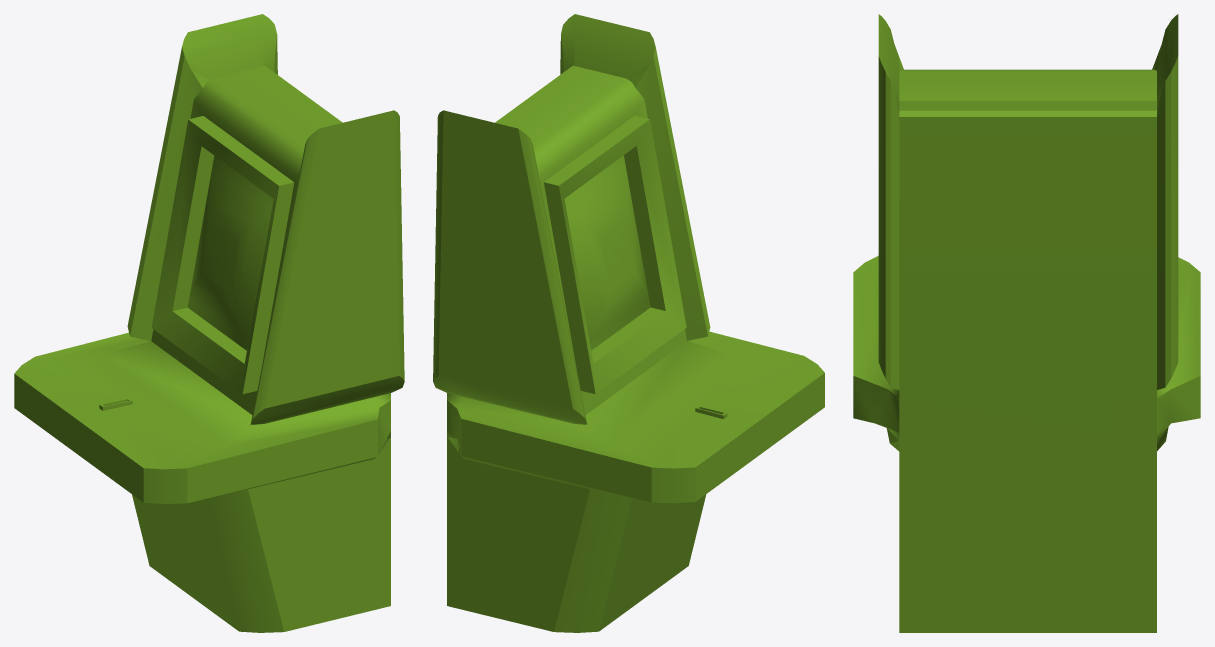
File: ArcadeM4.fbx
3 views of the same model, side by side, from view 1: azimuth 30°, elevation 25°; view 2: azimuth 150°, elevation 25°; view 3: azimuth 270°, elevation 25° (orthographic). The views are drawn at different scales.
Visible parts, largest first — view 1: ArcadeM4; view 2: ArcadeM4; view 3: ArcadeM4.
Boxes of the visible parts, box(x1,y1,x2,y2) form: ArcadeM4: box(14, 14, 404, 632); ArcadeM4: box(433, 14, 824, 632); ArcadeM4: box(853, 14, 1200, 632).
Size of the model in its own units: 50.11 by 91.43 by 50.17.
